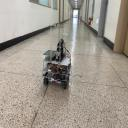cart: (42, 54, 72, 90)
